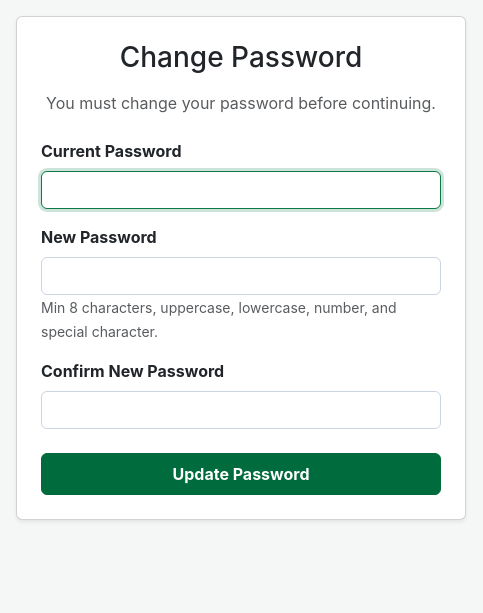
Test: ChangePassword Component › should display server errors on failed password update
The image size is (483, 613).
Type "WrongOldPass!" into the password field labelled "Current Password". click: (241, 190)
box: x1=41 y1=171 x2=441 y2=209
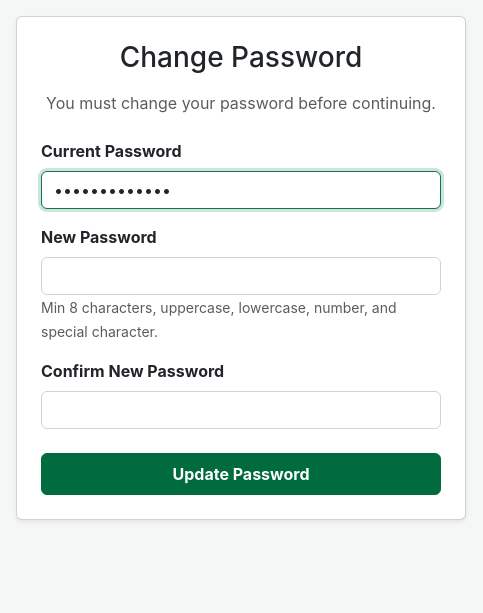
Type "NewPass123!@" into the password field labelled "New Password". click: (241, 276)
box: x1=41 y1=257 x2=441 y2=295
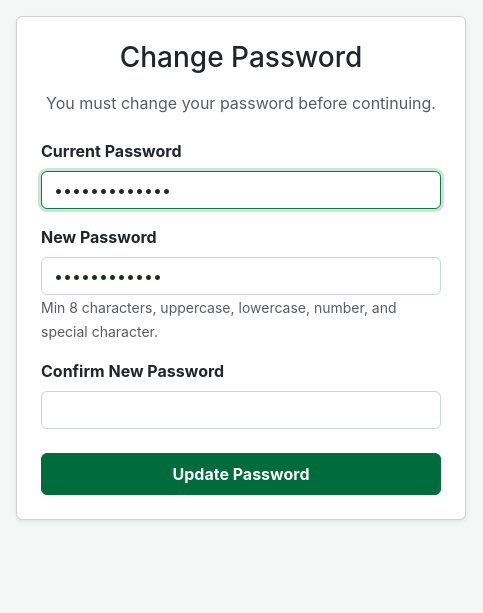
Type "NewPass123!@" into the password field labelled "Confirm New Password". click: (241, 410)
box: x1=41 y1=391 x2=441 y2=429
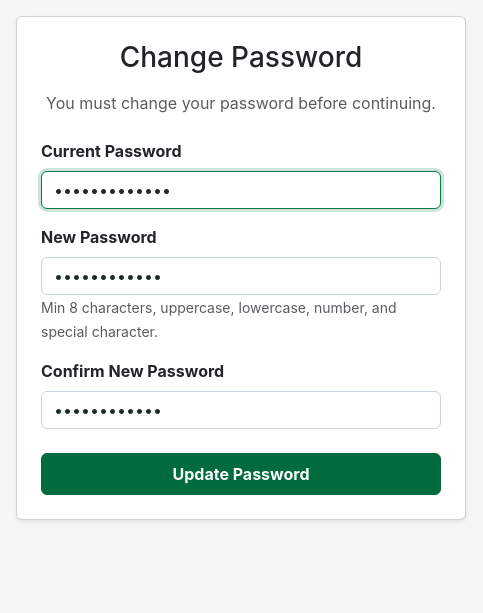
Click the button "Update Password". click: (241, 474)
box: x1=41 y1=453 x2=441 y2=495
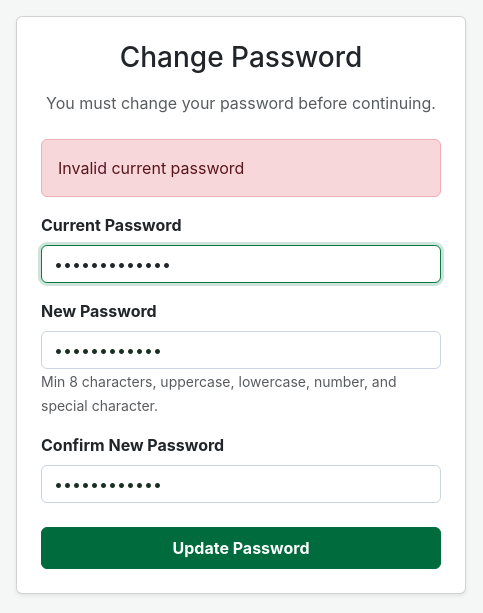
Now the text "Invalid current password" is shown, box x1=41 y1=139 x2=441 y2=197
